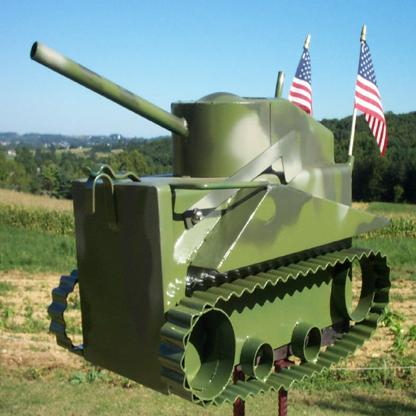Tank: (22, 38, 396, 402)
